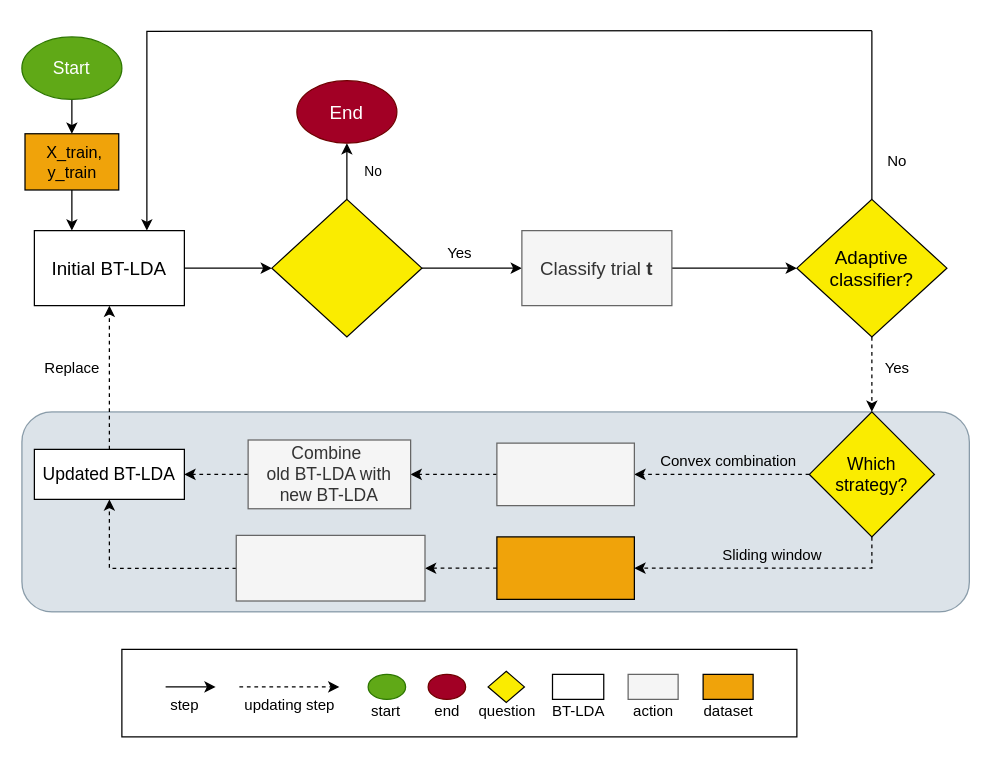
This 991x759 diagram has some shape labels left out. Here are the shapes that lost their labels. From the top down, the box of each, then its label:
(271, 198, 422, 337): New trial t available?
(496, 442, 634, 506): Train new BT-LDA on t
(235, 534, 425, 601): Train updated BT-LDA on X_train, y_train
(496, 536, 634, 599): Update X_train, y_train
